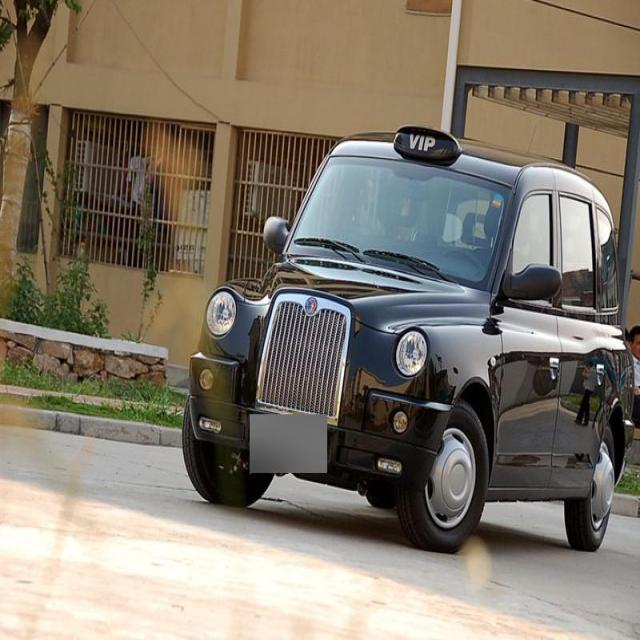door: (551, 187, 613, 495)
front_bumper: (185, 349, 452, 489)
front_glass: (286, 149, 520, 288)
front_left_side_door: (488, 163, 562, 498)
front_left_side_light: (391, 322, 433, 382)
front_left_side_mirror: (503, 260, 562, 304)
front_right_side_light: (202, 284, 239, 342)
front_right_side_mirror: (264, 210, 290, 257)
wheel: (398, 408, 490, 550), (180, 424, 277, 506), (564, 431, 617, 545)
